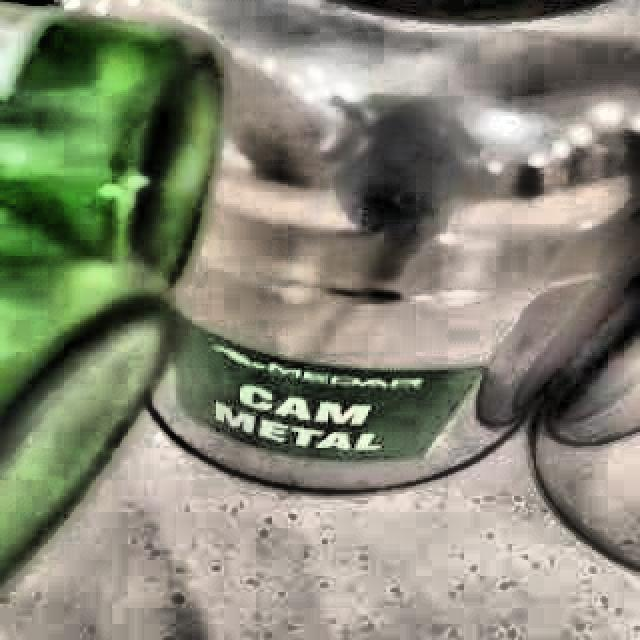glass: (0, 2, 221, 586)
